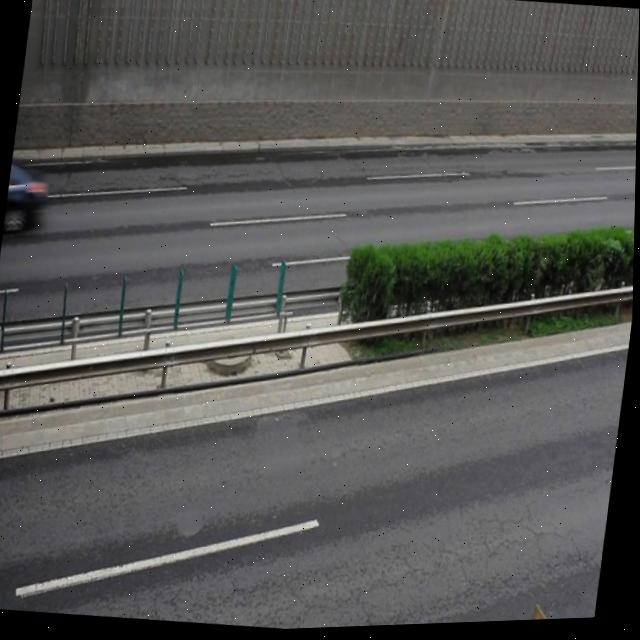car: (4, 154, 53, 234)
